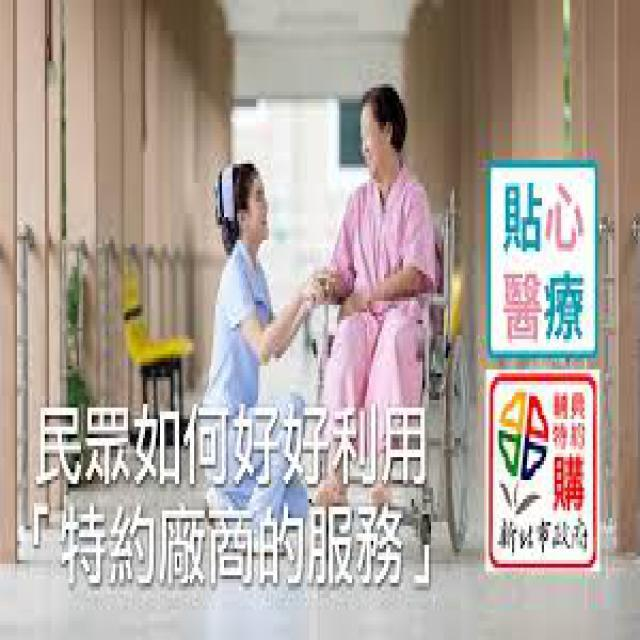wheelchairs: (301, 198, 474, 541)
